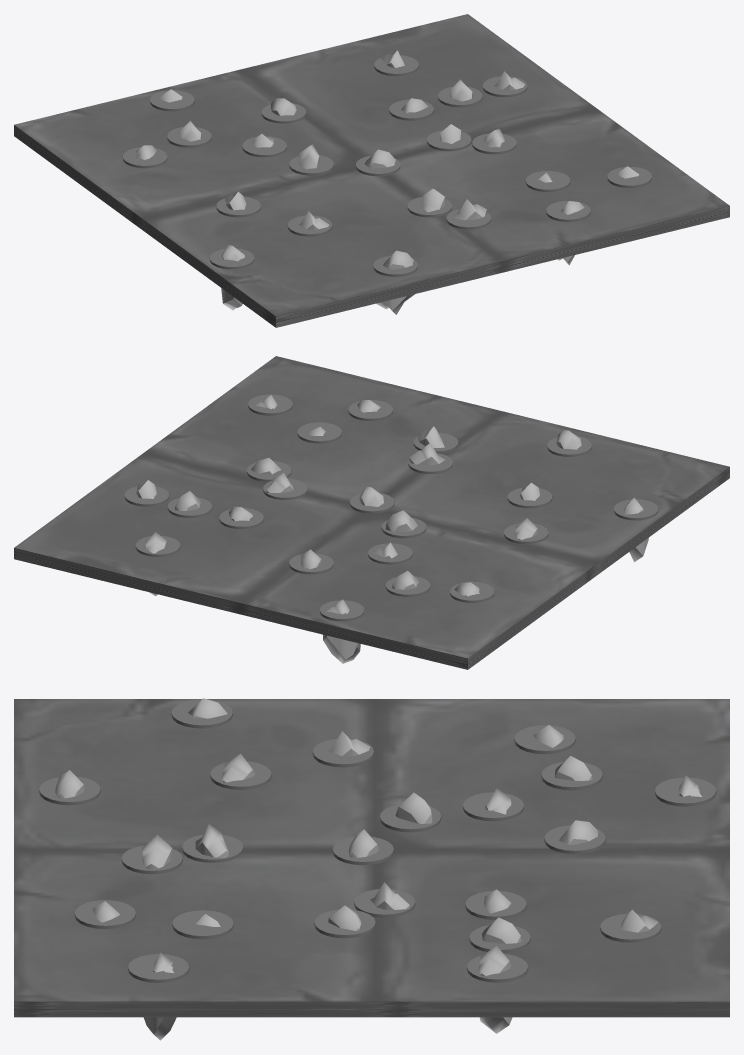
The model's file is TrapDown_F.fbx.
The picture shows the model from 3 angles, top to bottom: view 1: azimuth 30°, elevation 25°; view 2: azimuth 150°, elevation 25°; view 3: azimuth 270°, elevation 25°; orthographic projection. The views are drawn at different scales.
Parts seen in each view (by area): view 1: group9_pasted__group1_pasted__pasted__pCylinder1; view 2: group9_pasted__group1_pasted__pasted__pCylinder1; view 3: group9_pasted__group1_pasted__pasted__pCylinder1.
Part boxes in pixels (left/top/right/bottom): group9_pasted__group1_pasted__pasted__pCylinder1: left=14, top=14, right=729, bottom=327; group9_pasted__group1_pasted__pasted__pCylinder1: left=14, top=356, right=729, bottom=669; group9_pasted__group1_pasted__pasted__pCylinder1: left=14, top=698, right=729, bottom=1040.
Size of the model in its own units: 1 by 0.1604 by 1.
